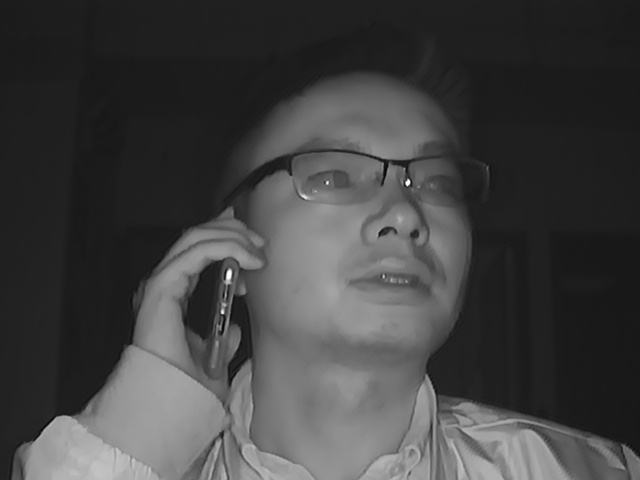hand: (134, 213, 269, 379)
